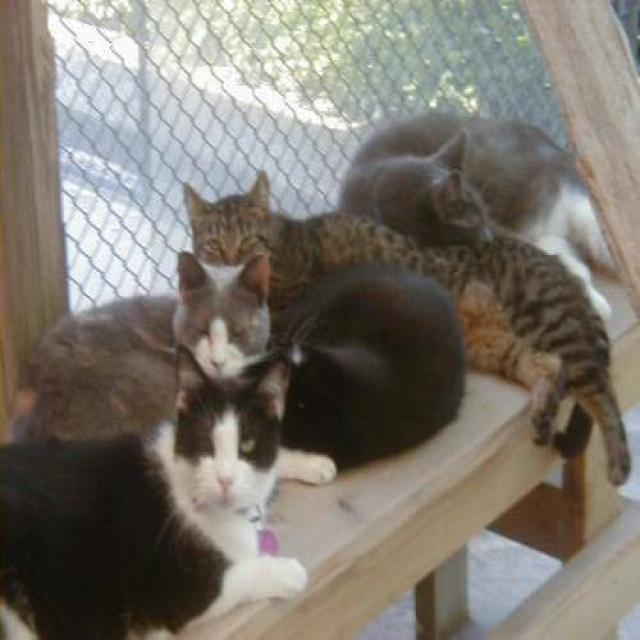cat: (182, 168, 631, 486), (0, 342, 310, 638), (337, 108, 620, 322)
